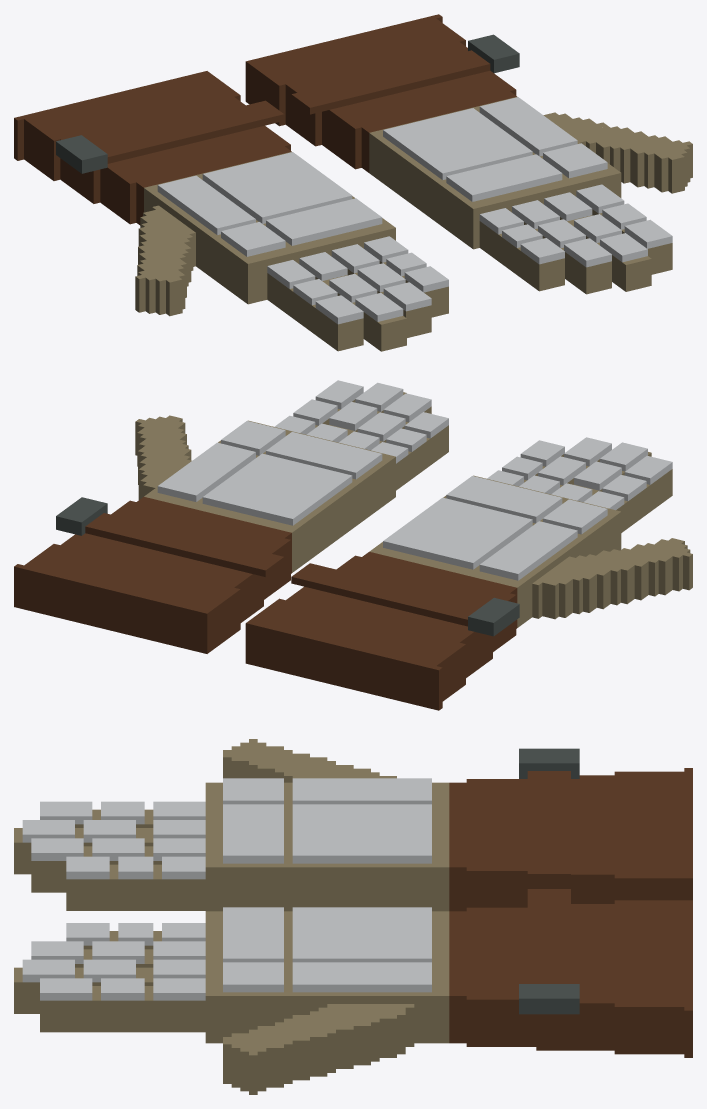
File: lc_brigandine_hands.glb
The picture shows the model from 3 angles, top to bottom: view 1: azimuth 30°, elevation 25°; view 2: azimuth 150°, elevation 25°; view 3: azimuth 270°, elevation 25°; orthographic projection. The views are drawn at different scales.
Visible parts, largest first — view 1: lc_brigandine_hands:compound; view 2: lc_brigandine_hands:compound; view 3: lc_brigandine_hands:compound.
Boxes of the visible parts, <box> form: lc_brigandine_hands:compound: <box>14,14,692,351</box>; lc_brigandine_hands:compound: <box>14,380,692,710</box>; lc_brigandine_hands:compound: <box>14,739,692,1094</box>.
Size of the model in its own units: 0.344 by 0.032 by 0.312.
